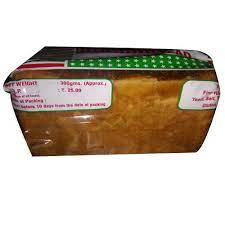bread: (10, 36, 225, 165)
